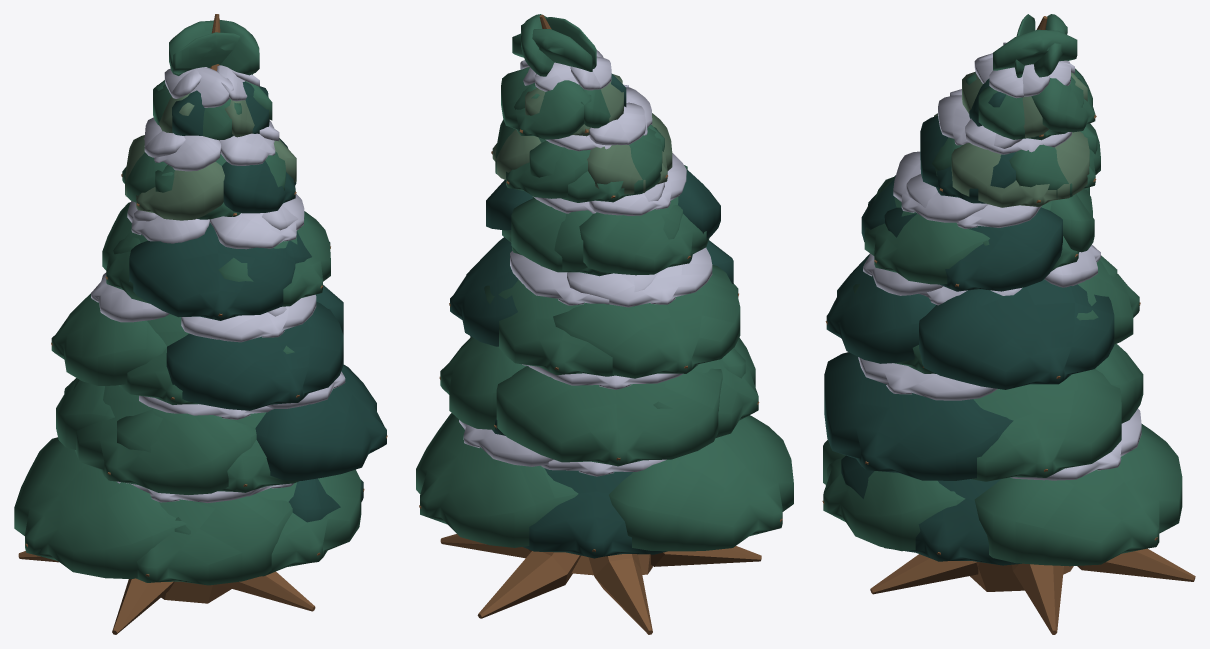
The model's file is pine_sapling_snow.glb.
3 renders of one model, left to right at view 1: azimuth 30°, elevation 25°; view 2: azimuth 150°, elevation 25°; view 3: azimuth 270°, elevation 25°, orthographic. The views are drawn at different scales.
Visible parts, largest first — view 1: pine_sapling_snow; view 2: pine_sapling_snow; view 3: pine_sapling_snow.
Part boxes in pixels (x1,y1,x2,y2): pine_sapling_snow: [14, 14, 387, 634]; pine_sapling_snow: [416, 14, 793, 634]; pine_sapling_snow: [822, 14, 1195, 634].
Bounding box in the file's own units: 1.39 × 2.31 × 1.34.
